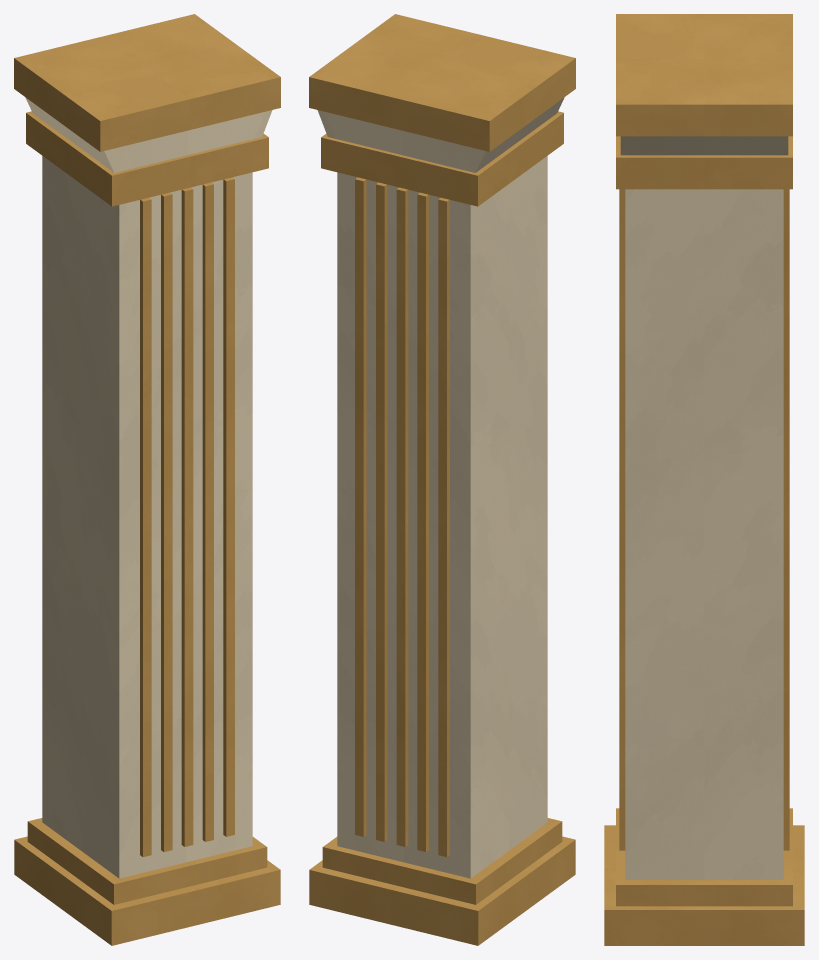
Rendered from SM_Theater_Column_Pilaster.fbx.
3 views of the same model, side by side, from view 1: azimuth 30°, elevation 25°; view 2: azimuth 150°, elevation 25°; view 3: azimuth 270°, elevation 25° (orthographic). The views are drawn at different scales.
Parts seen in each view (by area): view 1: SM_Theater_Column_Pilaster_LOD0; view 2: SM_Theater_Column_Pilaster_LOD0; view 3: SM_Theater_Column_Pilaster_LOD0.
Boxes of the visible parts, x1,y1,x2,y2 form: SM_Theater_Column_Pilaster_LOD0: (14,14,280,945); SM_Theater_Column_Pilaster_LOD0: (309,14,575,945); SM_Theater_Column_Pilaster_LOD0: (604,14,804,945).
Size of what is drawn, in the model's own units: 0.92 by 4 by 0.86.
